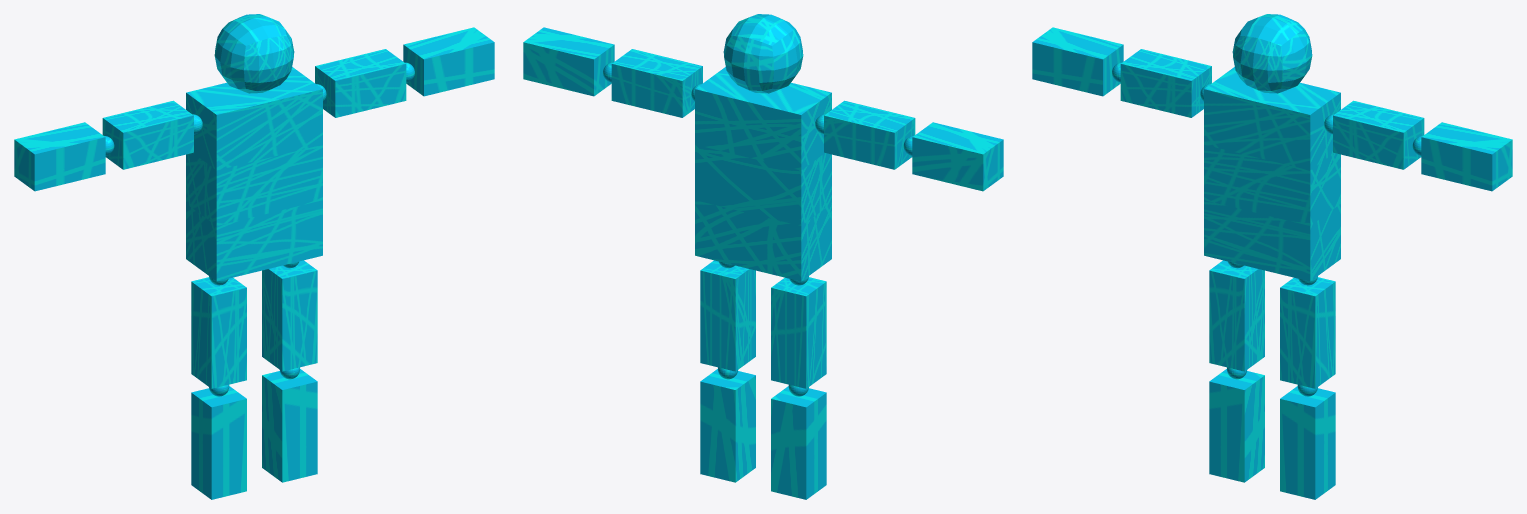
The model's file is slaim.fbx.
The picture shows the model from 3 angles, left to right: view 1: azimuth 30°, elevation 25°; view 2: azimuth 150°, elevation 25°; view 3: azimuth 330°, elevation 25°; orthographic projection.
Parts seen in each view (by area): view 1: 立方体.011, 立方体.004, 立方体.001, 立方体.008, 立方体.006, 立方体; view 2: 立方体.011, 立方体.004, 立方体.001, 立方体.008, 立方体.006, 立方体; view 3: 立方体.011, 立方体.004, 立方体.001, 立方体.008, 立方体.006, 立方体.
Part boxes in pixels (x1,y1,x2,y2): 立方体.011: [186, 67, 322, 281]; 立方体.004: [191, 369, 317, 499]; 立方体.001: [191, 260, 317, 388]; 立方体.008: [14, 27, 494, 191]; 立方体.006: [102, 49, 406, 169]; 立方体: [214, 14, 294, 93]; 立方体.011: [695, 67, 831, 281]; 立方体.004: [700, 369, 826, 499]; 立方体.001: [700, 260, 826, 388]; 立方体.008: [523, 27, 1003, 191]; 立方体.006: [611, 49, 915, 169]; 立方体: [723, 14, 803, 93]; 立方体.011: [1204, 67, 1340, 281]; 立方体.004: [1209, 369, 1335, 499]; 立方体.001: [1209, 260, 1335, 388]; 立方体.008: [1032, 27, 1512, 191]; 立方体.006: [1120, 49, 1424, 169]; 立方体: [1232, 14, 1312, 93].
Size of the model in its own units: 26 by 24.94 by 3.88.
6 materials, 6 textured.
